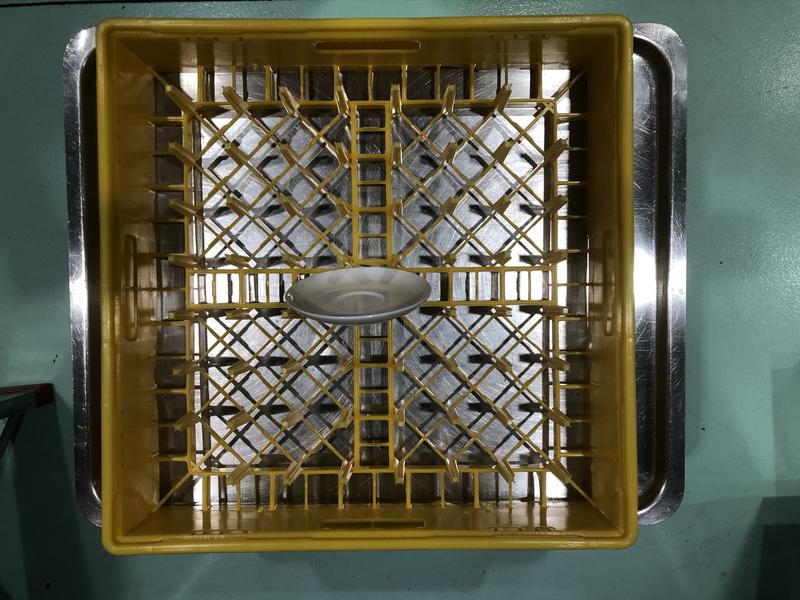Dish: (284, 268, 431, 324)
